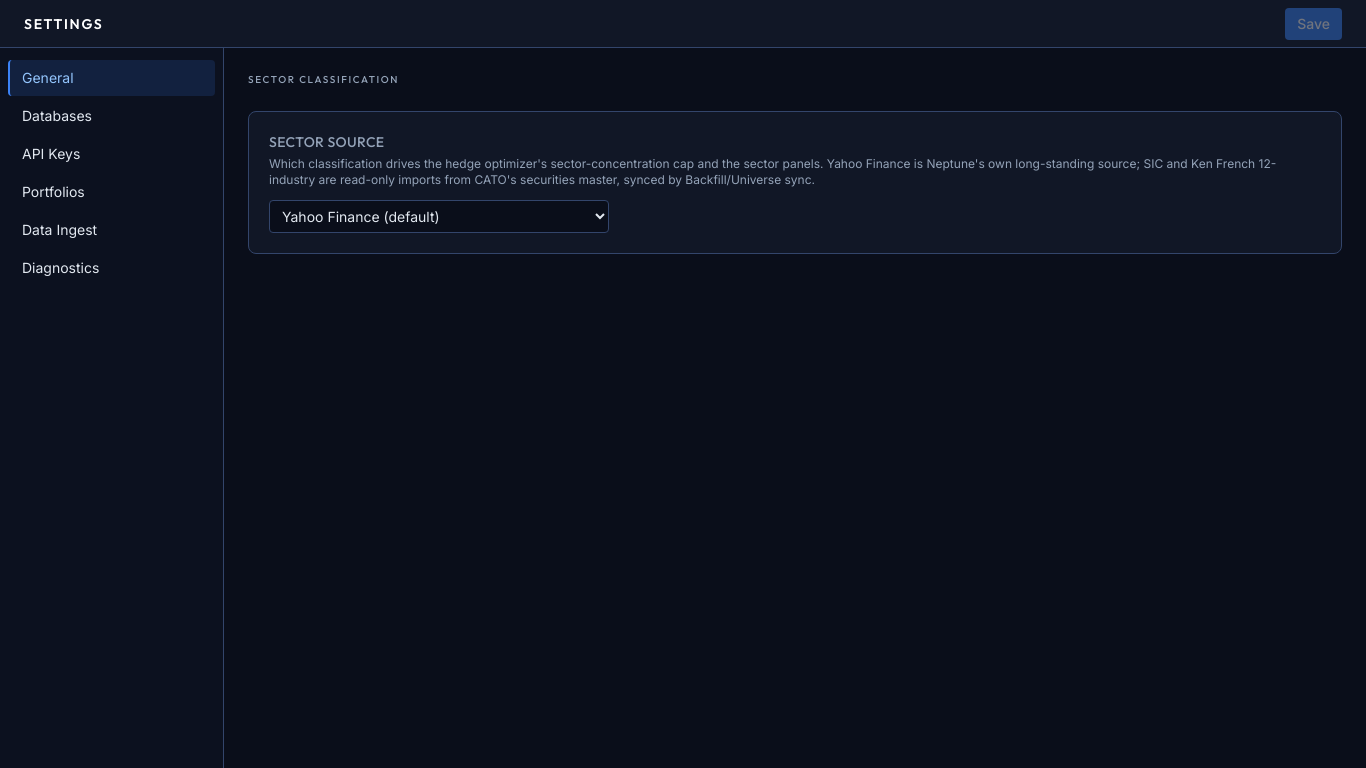
it: Settings › saves a FRED API key (write-only) and links to where to get one
The width and height of the screenshot is (1366, 768).
Click the button "API Keys". click: [112, 154]
box: [8,136,215,172]
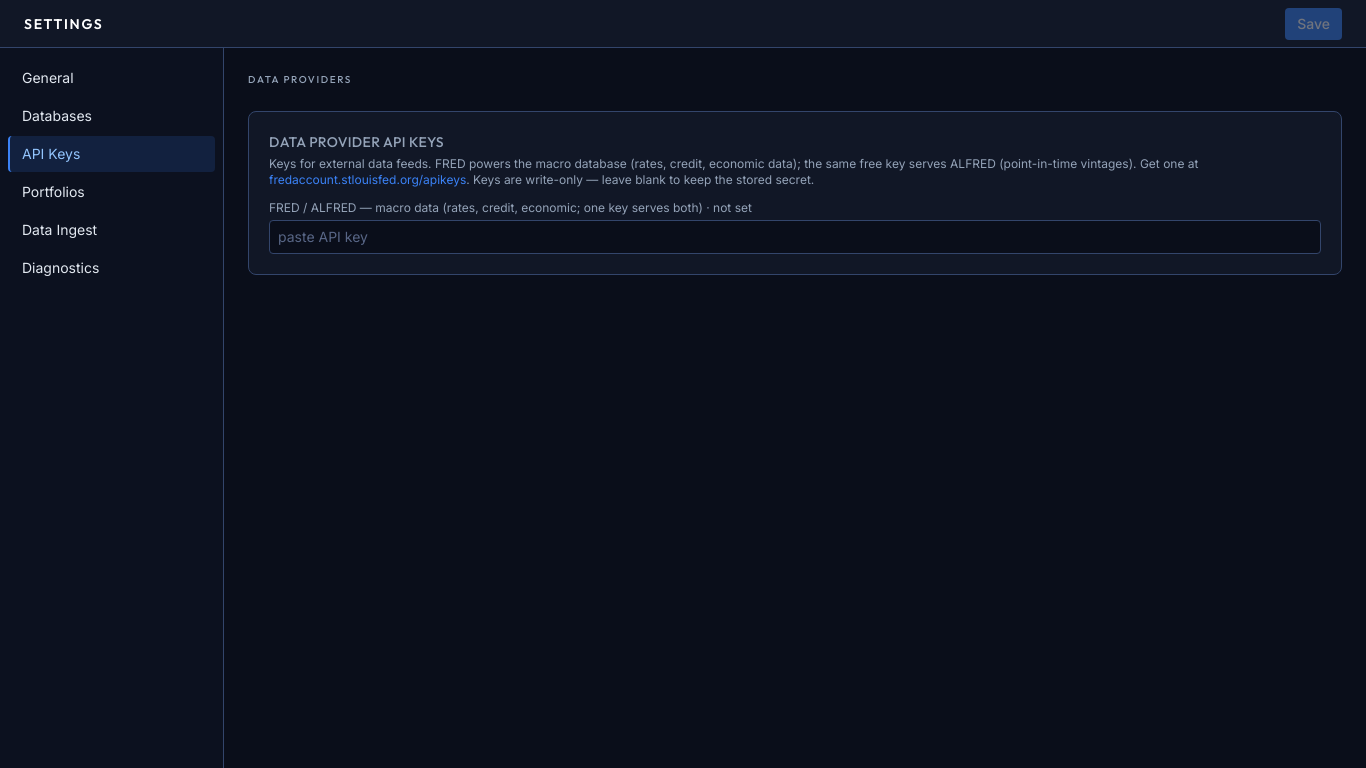
Expected: the heading "Data provider API keys" is shown, [269,133,444,151]
Expected: the link "fredaccount.stlouisfed.org/apikeys" is shown, [269,172,466,187]
Type "mysecretkey" into the password field named "FRED-api-key". click: [795, 237]
box: [269,220,1321,254]
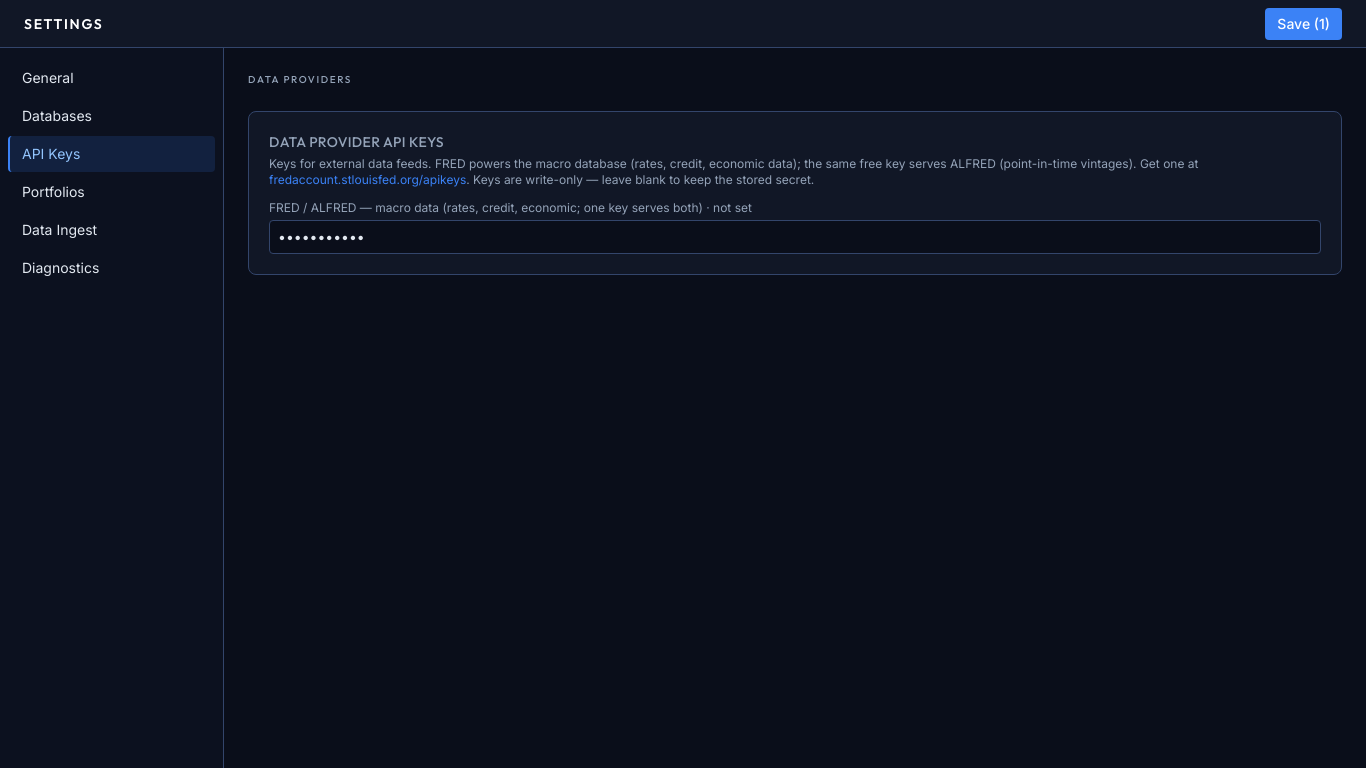
Click the button with aria-label "save-settings". click: [1304, 24]
box: [1265,8,1342,40]
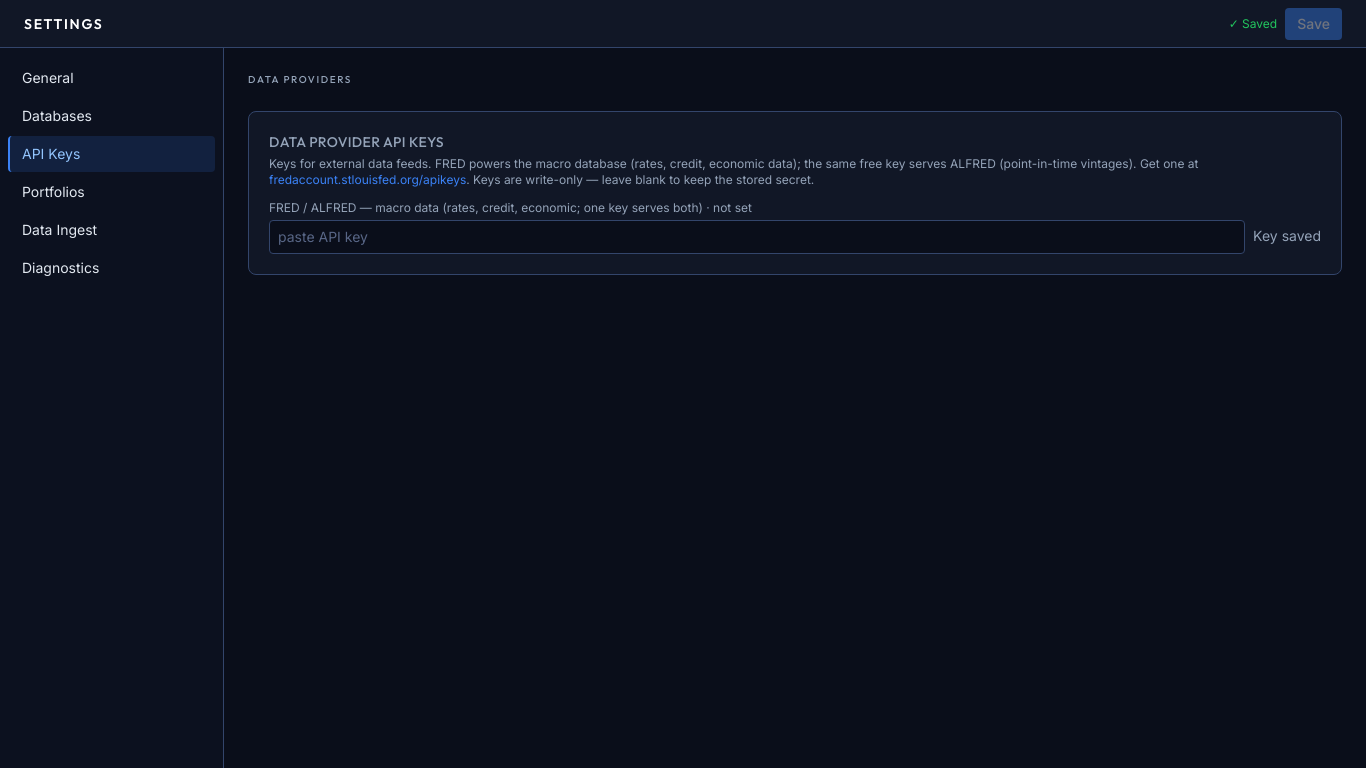
Expected: the text "Key saved" is shown, [1253,226,1321,254]
